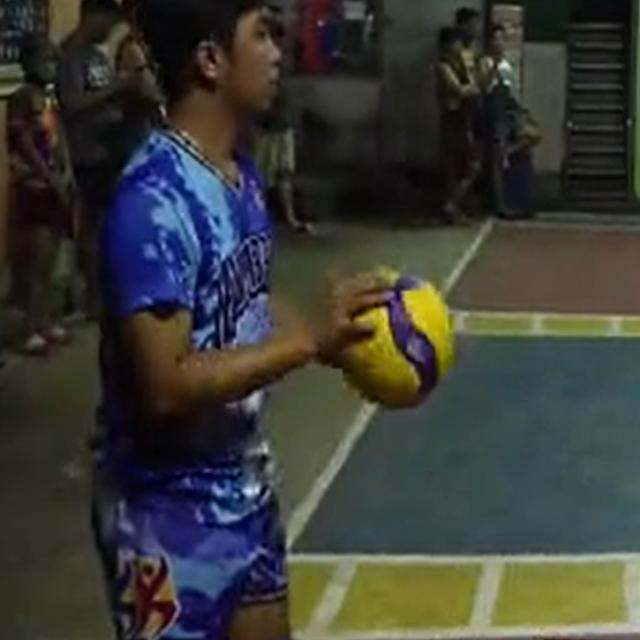volleyball: (338, 266, 452, 408)
